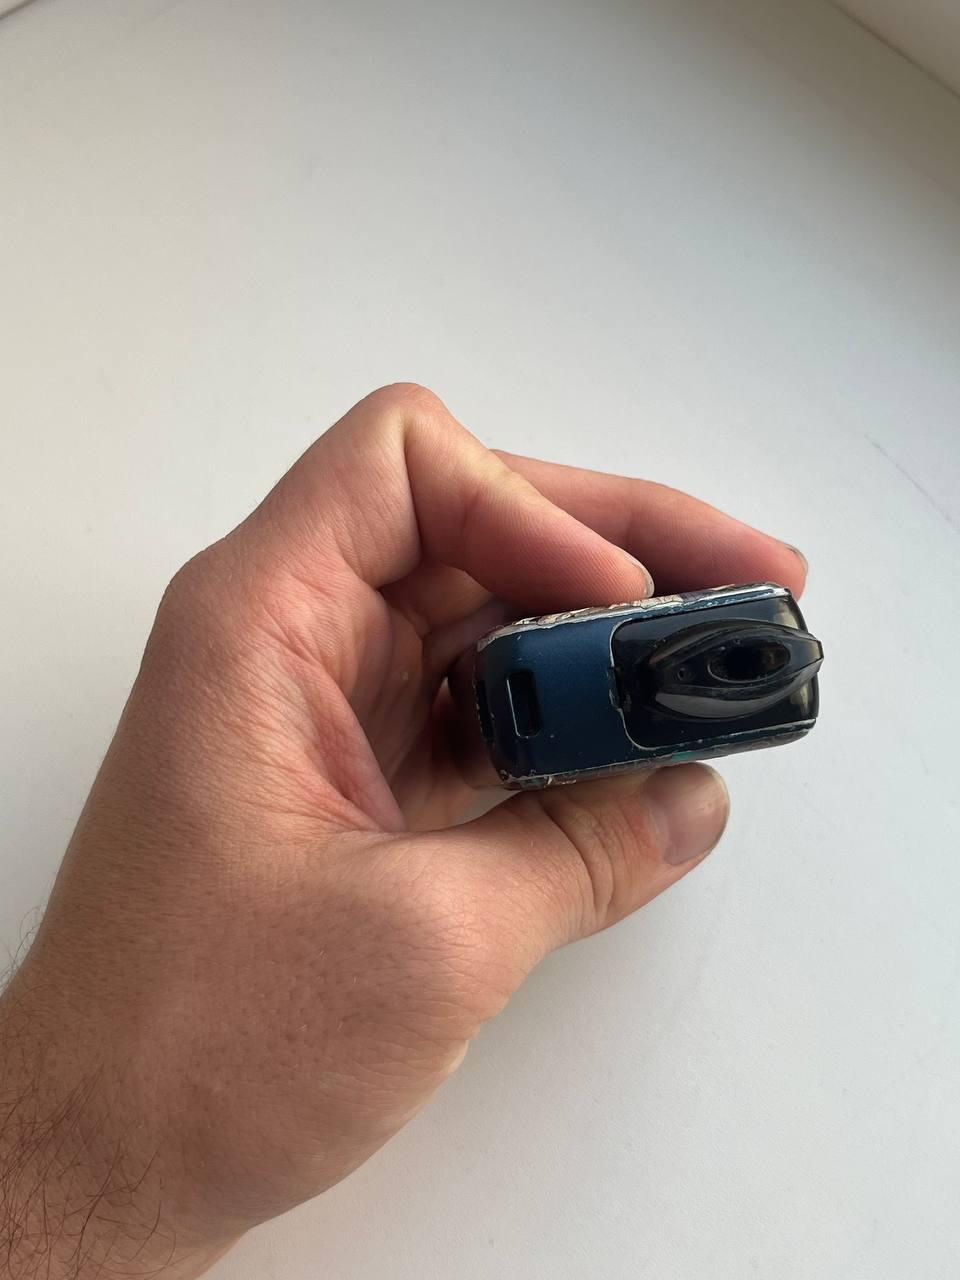Vape: (472, 584, 823, 789)
